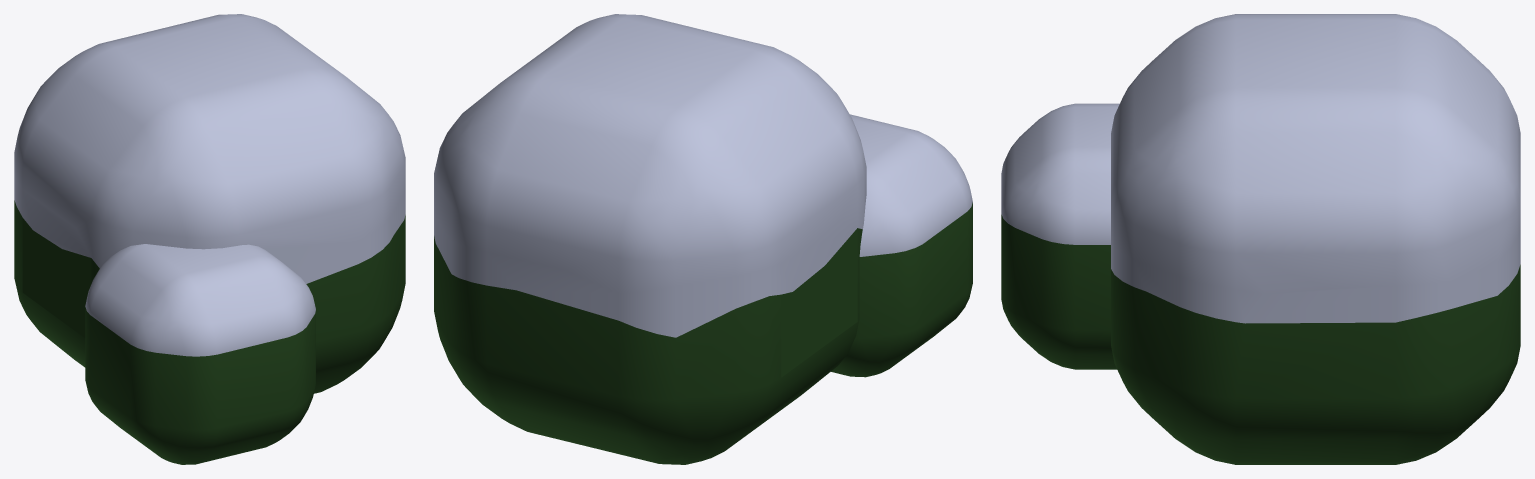
The model's file is bush2.glb.
3 views of the same model, side by side, from view 1: azimuth 30°, elevation 25°; view 2: azimuth 150°, elevation 25°; view 3: azimuth 270°, elevation 25° (orthographic). The views are drawn at different scales.
Parts seen in each view (by area): view 1: Cube, Cube.001; view 2: Cube, Cube.001; view 3: Cube, Cube.001.
Boxes of the visible parts, box(x1,y1,x2,y2) form: Cube: box(14, 14, 405, 393); Cube.001: box(85, 244, 315, 464); Cube: box(434, 14, 866, 464); Cube.001: box(831, 114, 972, 377); Cube: box(1111, 14, 1520, 464); Cube.001: box(1001, 103, 1119, 369).
Size of the model in its own units: 1.91 by 1.74 by 2.21.
